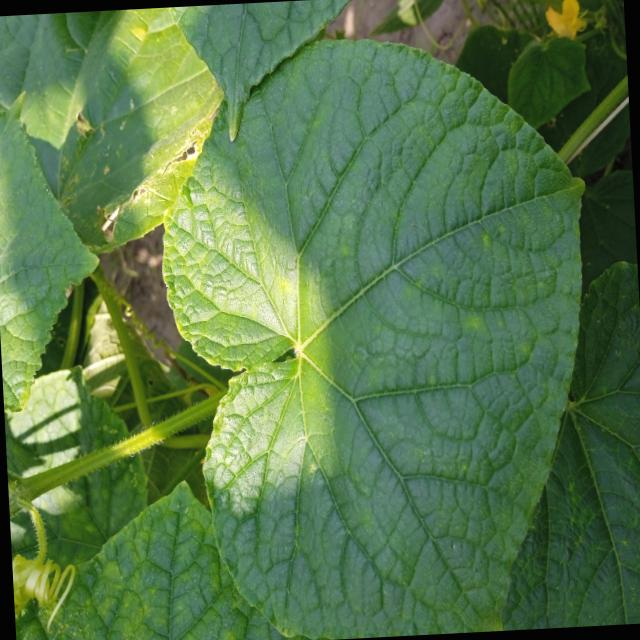cucumber_healthy: (148, 24, 612, 640), (8, 467, 280, 640), (0, 85, 112, 423)
